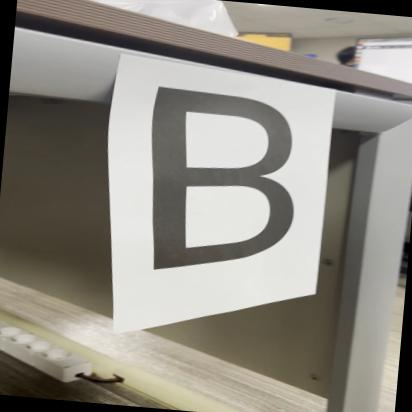seat: (121, 69, 360, 292)
